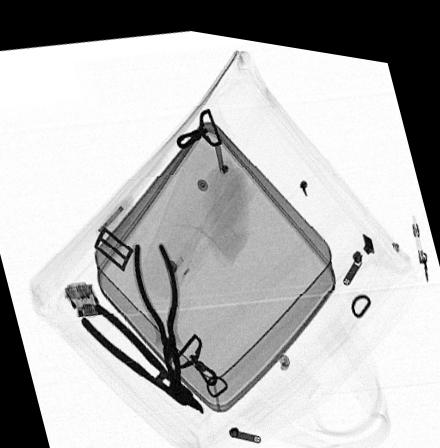Pliers: (80, 300, 204, 411), (132, 236, 181, 374)
